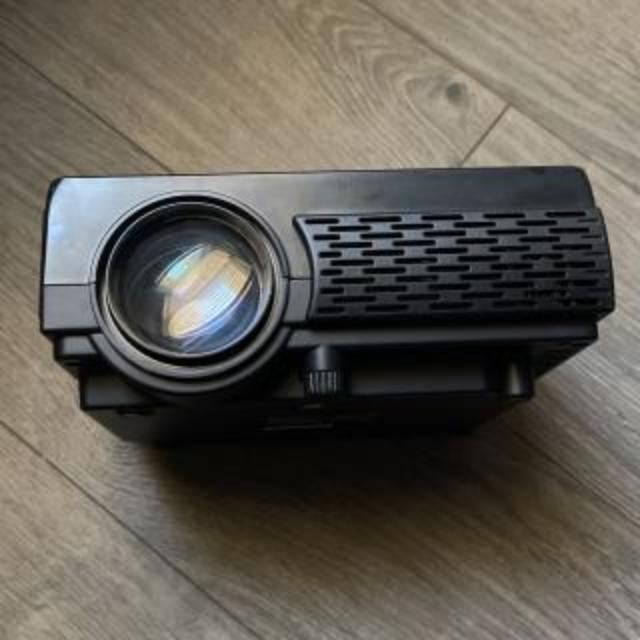Projector: (38, 164, 614, 422)
